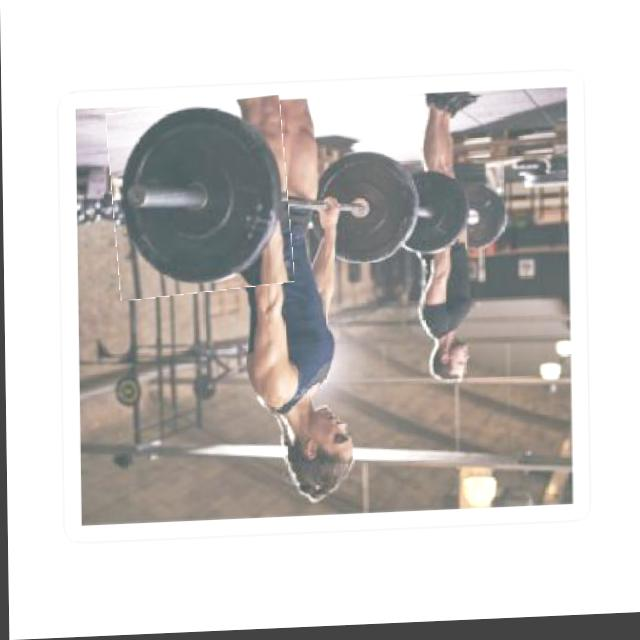barbell: (109, 100, 292, 300)
